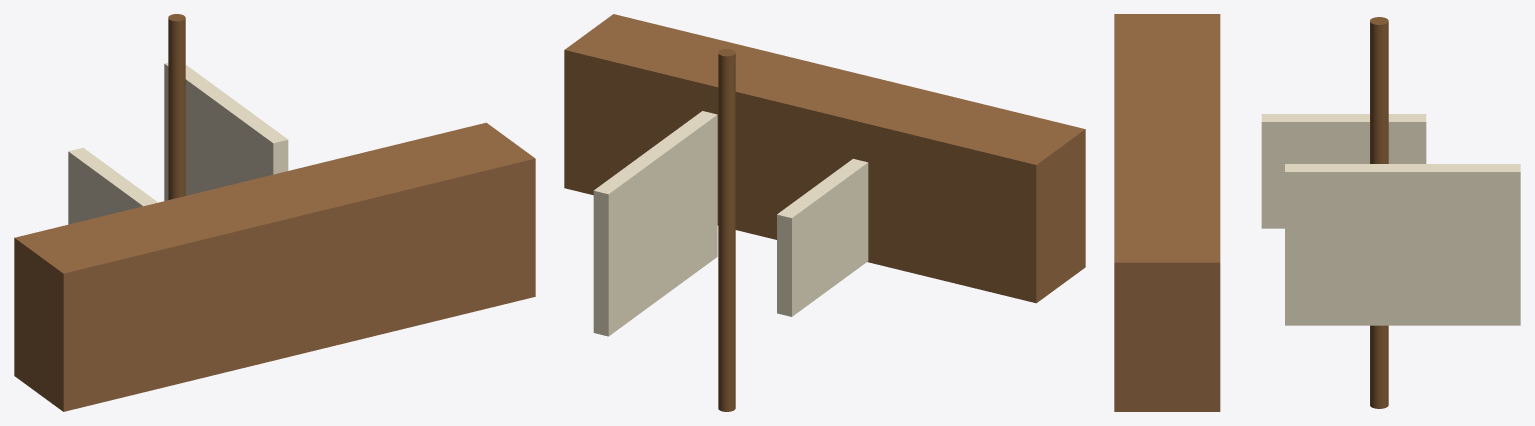
The model's file is harbor-ship.glb.
3 views of the same model, side by side, from view 1: azimuth 30°, elevation 25°; view 2: azimuth 150°, elevation 25°; view 3: azimuth 270°, elevation 25° (orthographic). The views are drawn at different scales.
Parts seen in each view (by area): view 1: Hull, Main Sail, Side Sail, Mast; view 2: Hull, Main Sail, Side Sail, Mast; view 3: Hull, Main Sail, Side Sail, Mast.
Boxes of the visible parts, left/top/right/bottom form: Hull: left=14, top=122, right=535, bottom=411; Main Sail: left=164, top=62, right=288, bottom=200; Side Sail: left=68, top=147, right=157, bottom=224; Mast: left=168, top=14, right=185, bottom=199; Hull: left=564, top=14, right=1085, bottom=303; Main Sail: left=593, top=111, right=717, bottom=336; Side Sail: left=777, top=158, right=868, bottom=316; Mast: left=718, top=49, right=735, bottom=411; Hull: left=1114, top=14, right=1220, bottom=411; Main Sail: left=1285, top=164, right=1520, bottom=325; Side Sail: left=1261, top=114, right=1426, bottom=228; Mast: left=1370, top=17, right=1388, bottom=408.
Bounding box in the file's own units: 2.5 × 1.8 × 1.73.
